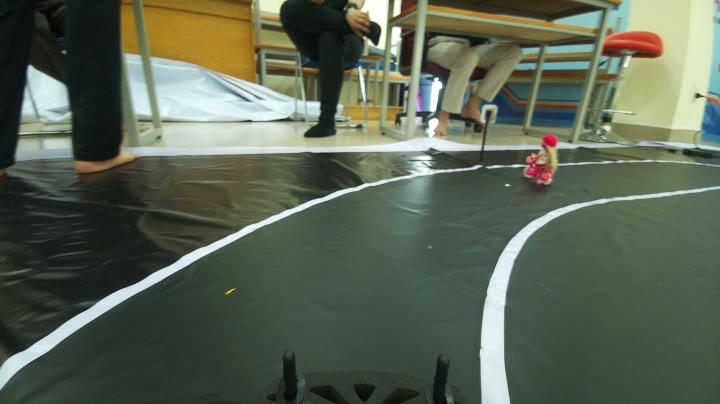pedestrian: (524, 125, 565, 194)
